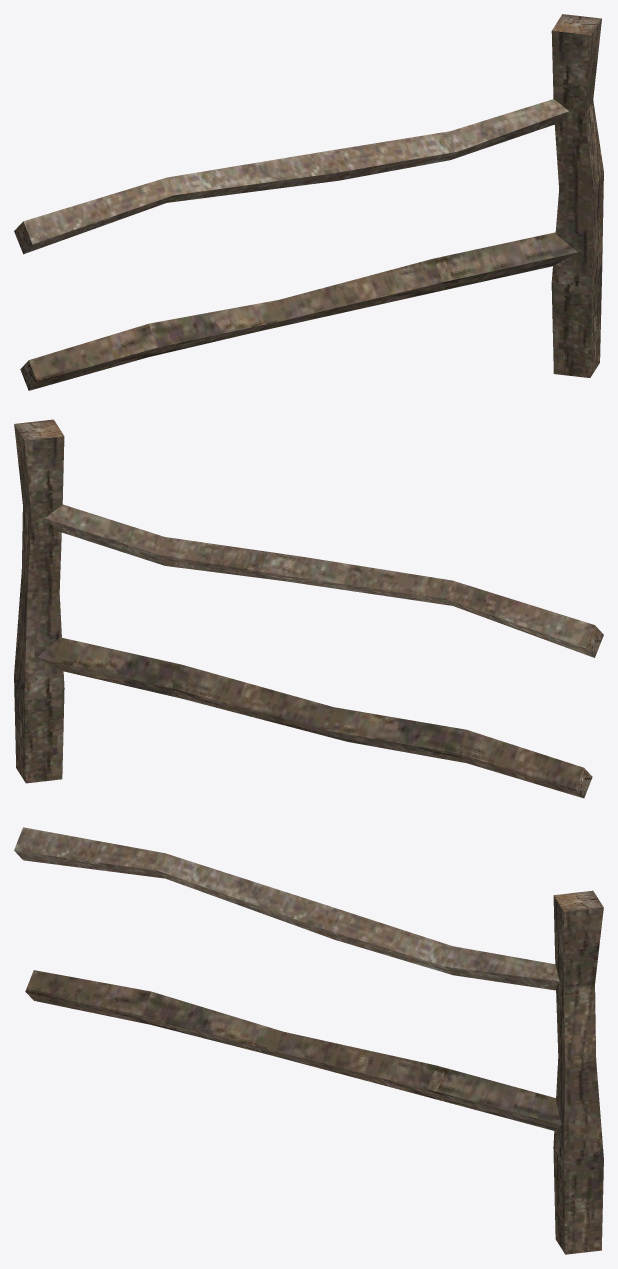
Rendered from lf_wooden_fence_open.glb.
3 views of the same model, one above another, from view 1: azimuth 30°, elevation 25°; view 2: azimuth 150°, elevation 25°; view 3: azimuth 330°, elevation 25° (orthographic).
Parts seen in each view (by area): view 1: wooden_fence_open; view 2: wooden_fence_open; view 3: wooden_fence_open.
Part boxes in pixels (x1,y1,x2,y2): wooden_fence_open: (14,14,603,390); wooden_fence_open: (14,419,603,798); wooden_fence_open: (14,827,603,1254).
Bounding box in the file's own units: 2.12 × 1.2 × 0.1889.
Materials: 1 (1 with a texture image).
